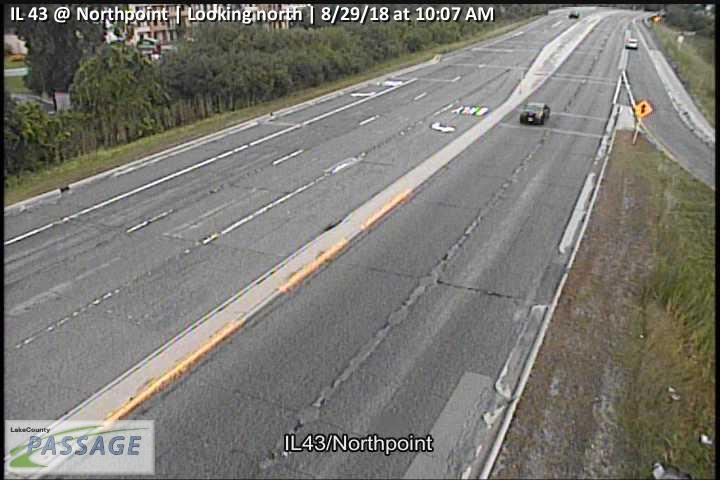Sedan: (521, 103, 551, 124), (625, 38, 639, 49)
